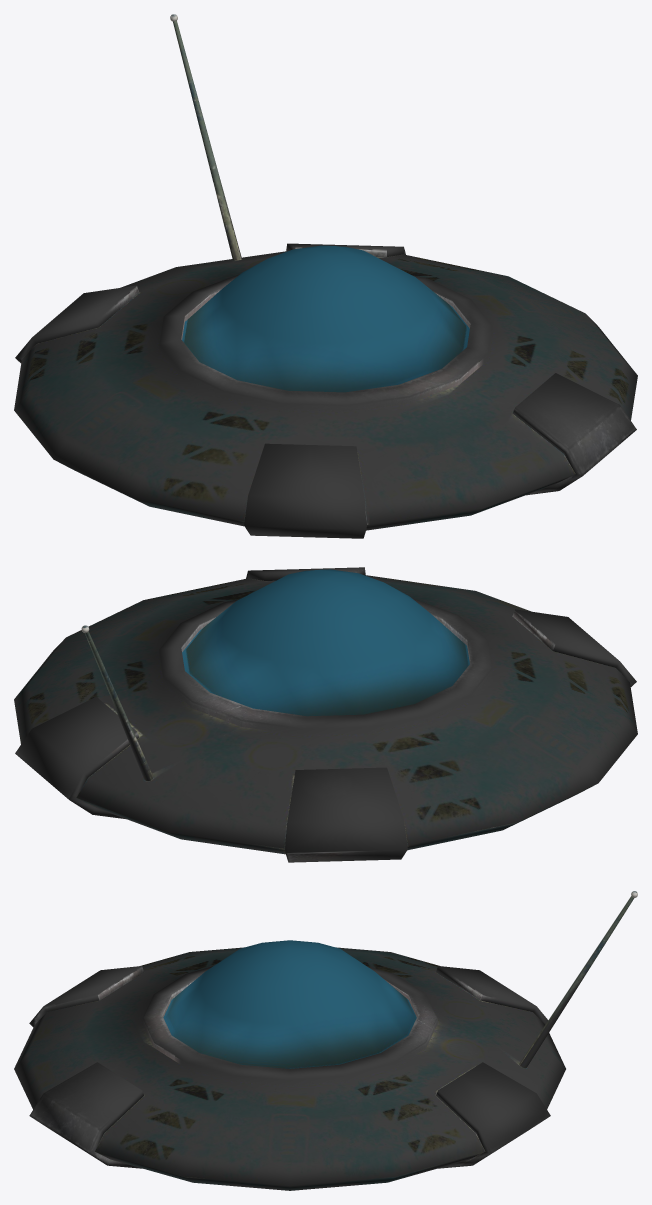
The model's file is SpaceshipJPG2.glb.
3 views of the same model, one above another, from view 1: azimuth 30°, elevation 25°; view 2: azimuth 150°, elevation 25°; view 3: azimuth 270°, elevation 25° (orthographic). The views are drawn at different scales.
Visible parts, largest first — view 1: Good_ship; view 2: Good_ship; view 3: Good_ship.
Part boxes in pixels (x1=…): Good_ship: x1=14, y1=14, x2=637, y2=538; Good_ship: x1=14, y1=567, x2=637, y2=862; Good_ship: x1=14, y1=891, x2=637, y2=1190.
Bounding box in the file's own units: 3.98 × 2.01 × 4.5.
Materials: 2 (1 with a texture image).
